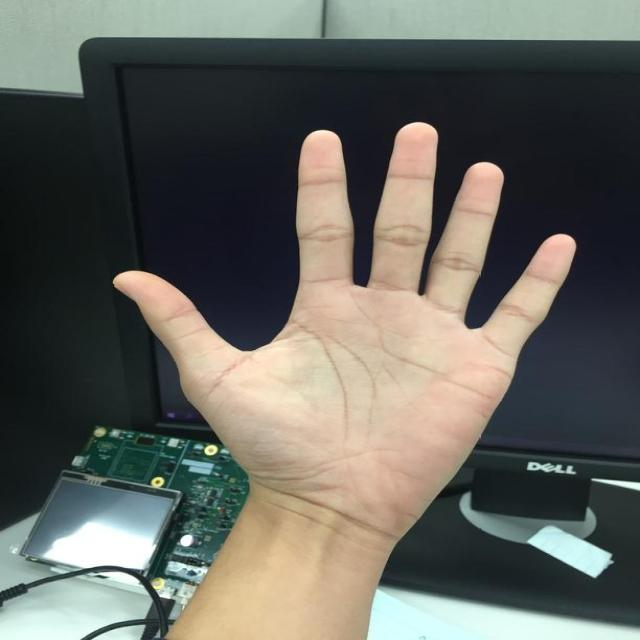hand: (103, 115, 585, 640)
